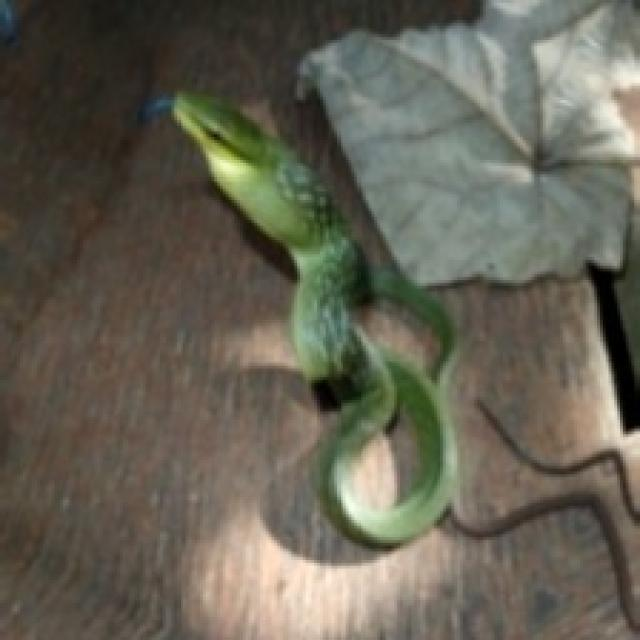red-tailed green ratsnake: (171, 91, 454, 546)
